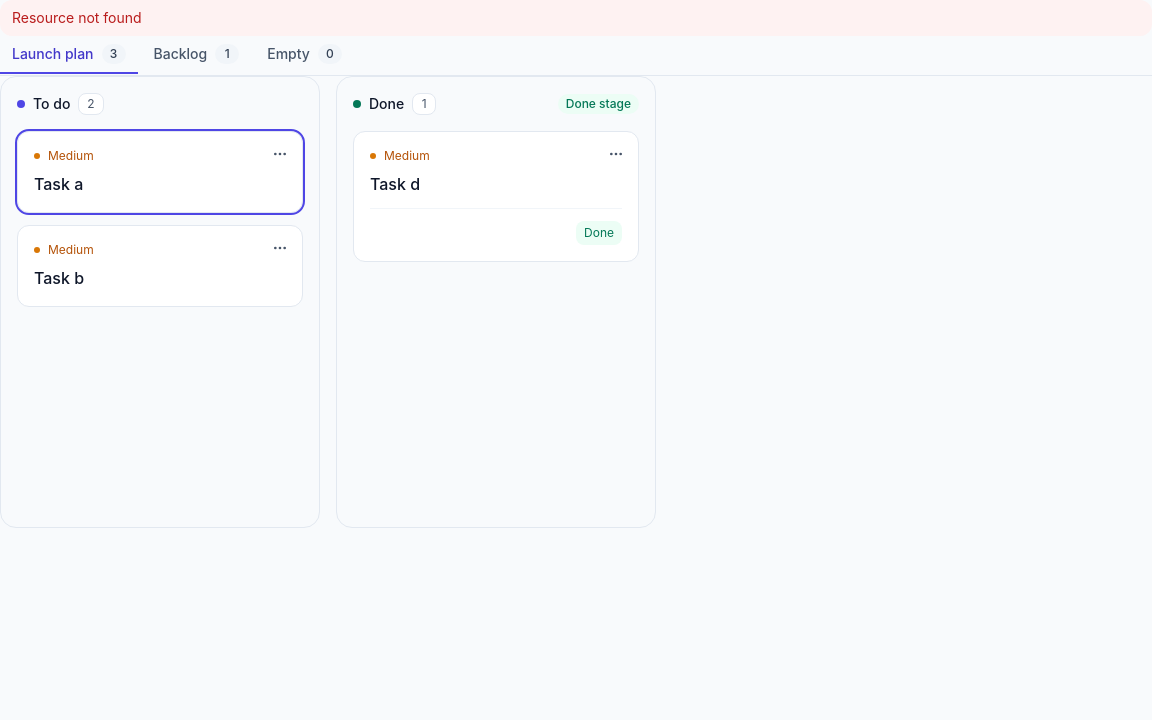
KanbanBoard across pipelines › drops the old refusal from the status once a later move succeeds
Click the button named "Move options for Task b" at (280,248), box [266,234,294,262]
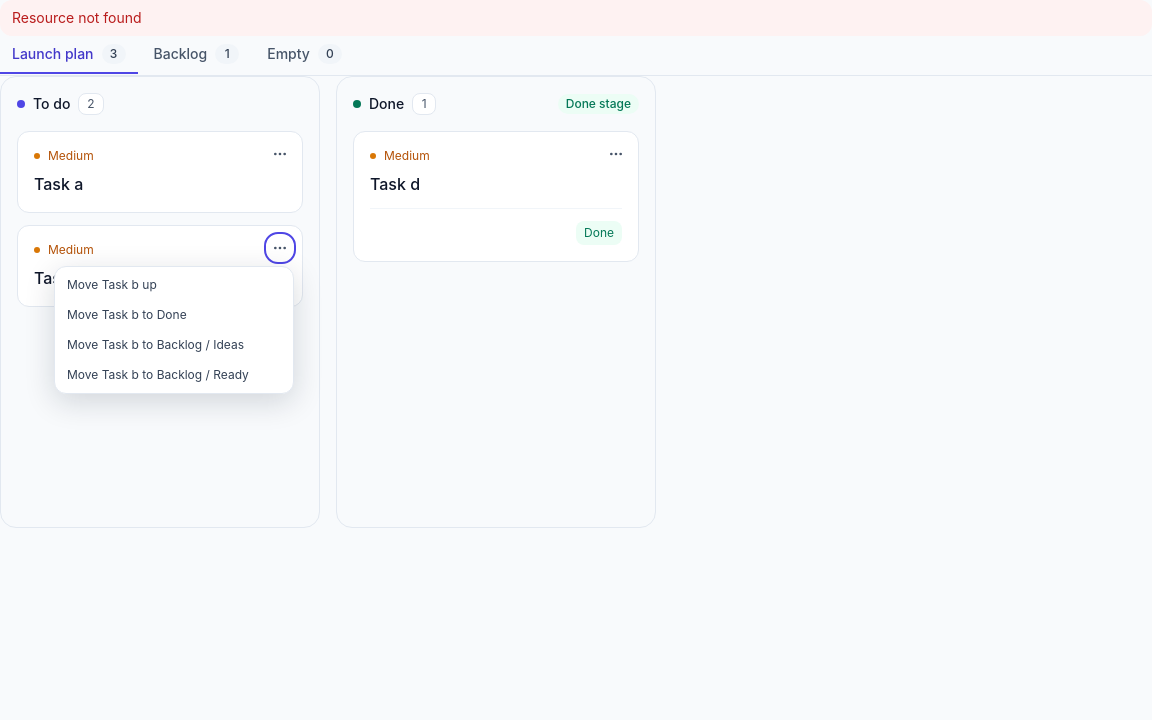
Click the button "Move Task b up" at (174,285), box [59,271,289,299]
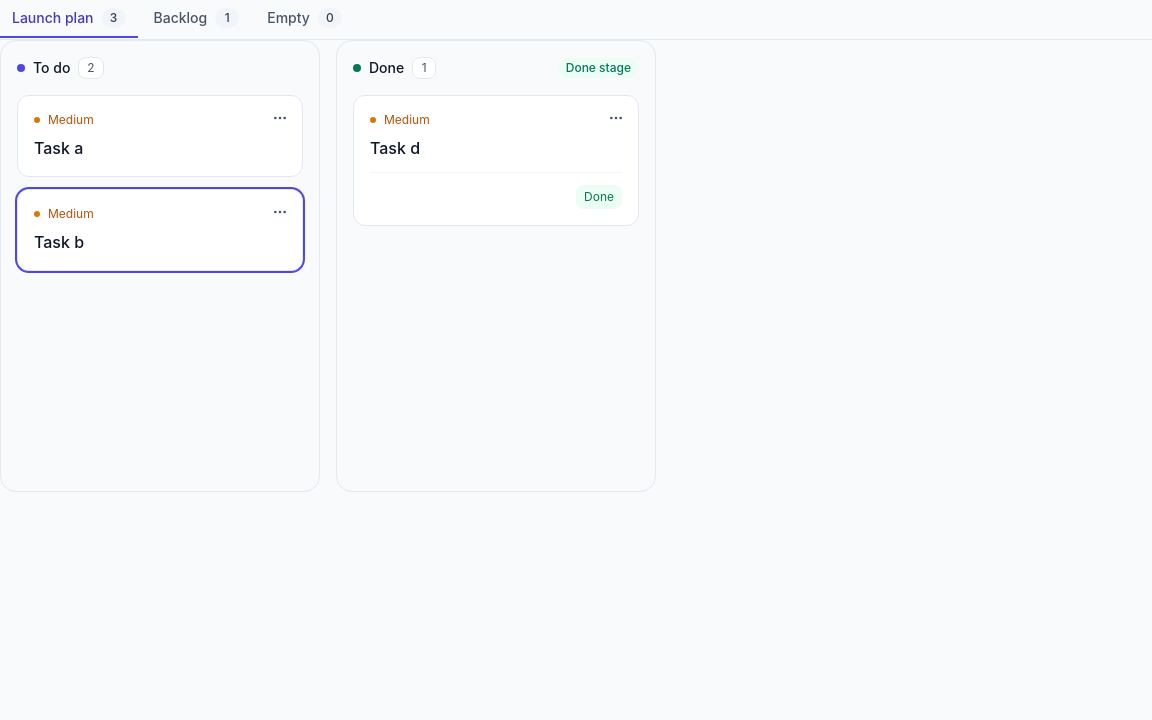
Check: the text "Resource not found" is gone
